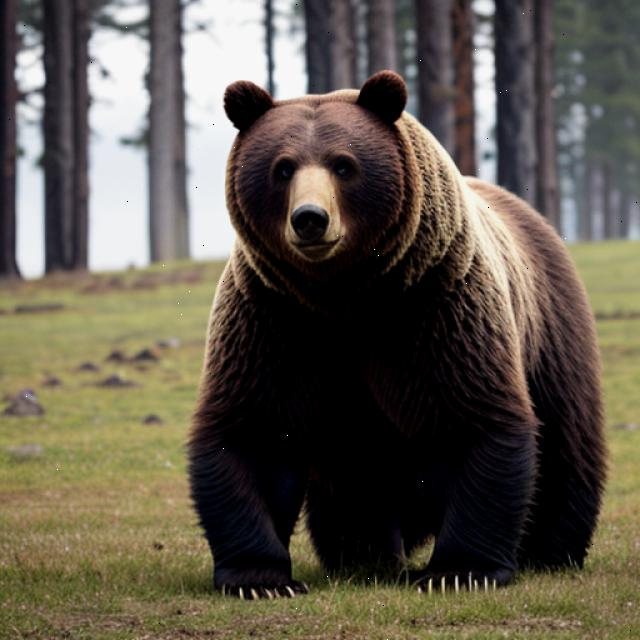bear: (174, 85, 606, 624)
